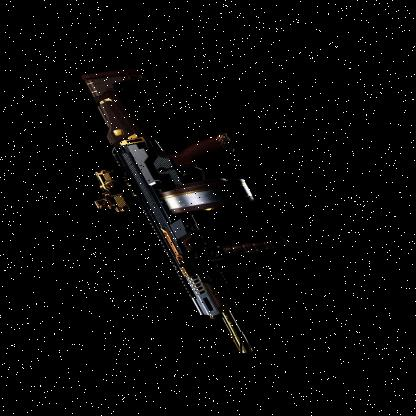rifle: (22, 46, 344, 360)
